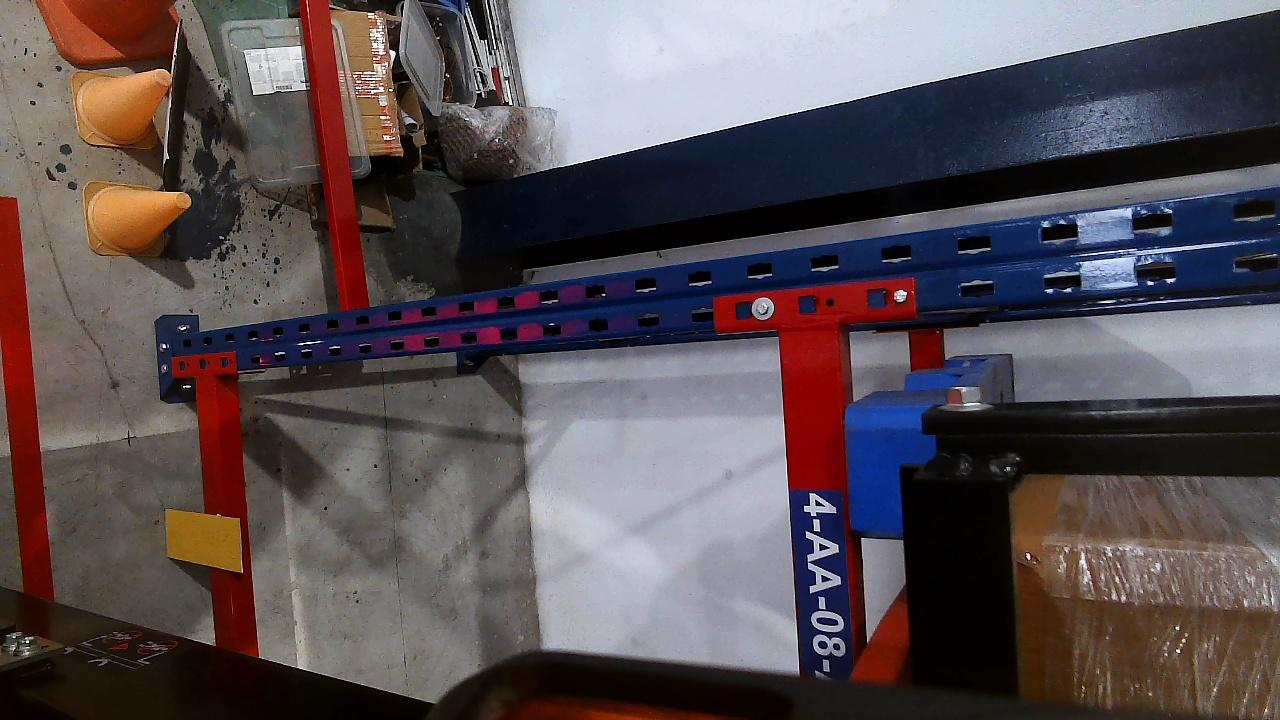h_rack: (779, 324, 868, 676), (194, 374, 240, 653)
orange_strip: (166, 509, 243, 570)
red_line: (0, 199, 52, 597)
